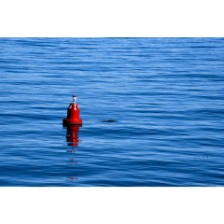buoy: (63, 104, 85, 125)
